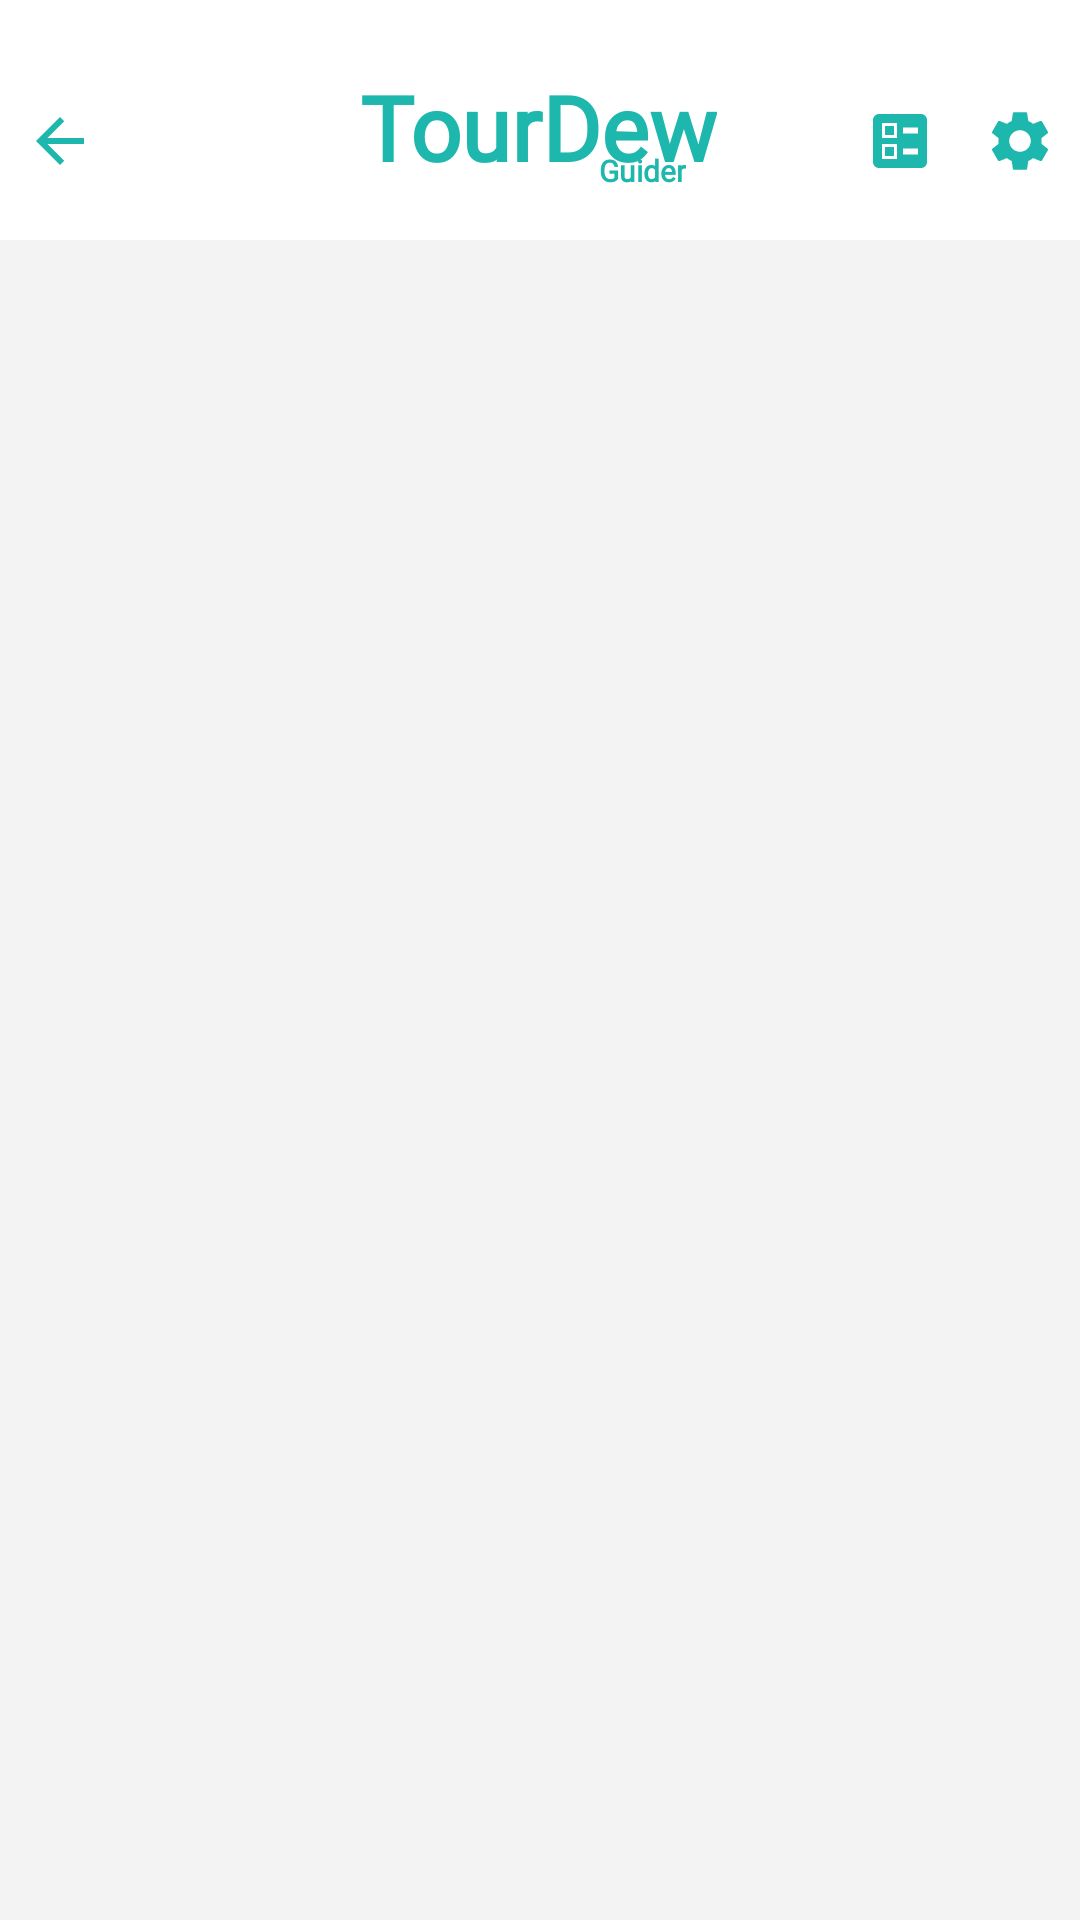

Icons on this 1080 x 1920 Android screen, each with its box as [x1, y1, x2, y2]:
arrow back: [36, 117, 84, 165]
ballot: [873, 114, 927, 168]
settings: [992, 112, 1048, 170]
